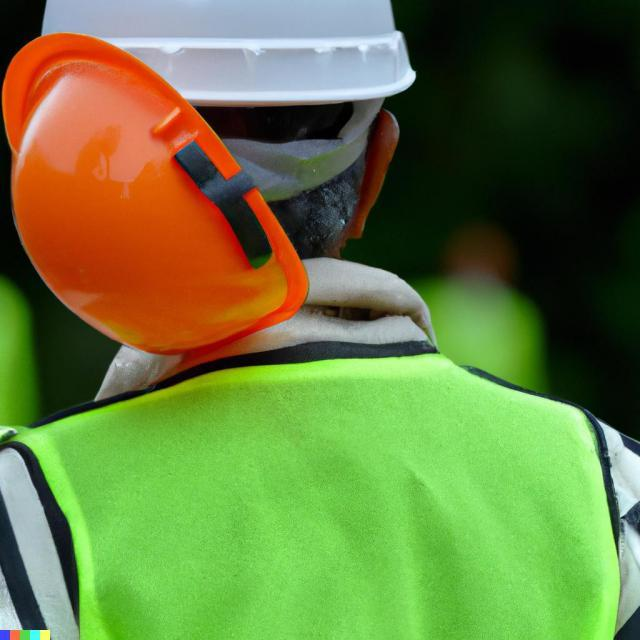reflective_jacket: (12, 284, 639, 637)
safety_helmet: (47, 0, 415, 96)
